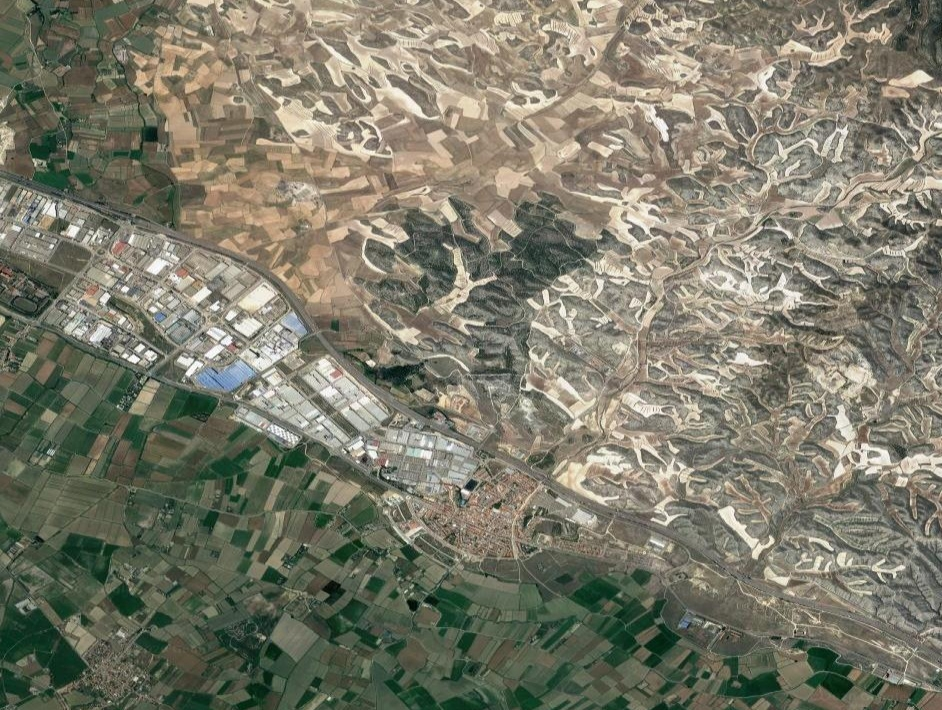industrial: (1, 194, 155, 342), (125, 249, 276, 392), (245, 357, 370, 461)
motorway: (354, 374, 695, 600), (689, 541, 942, 679), (251, 258, 359, 377), (130, 195, 261, 264), (1, 163, 131, 232)
